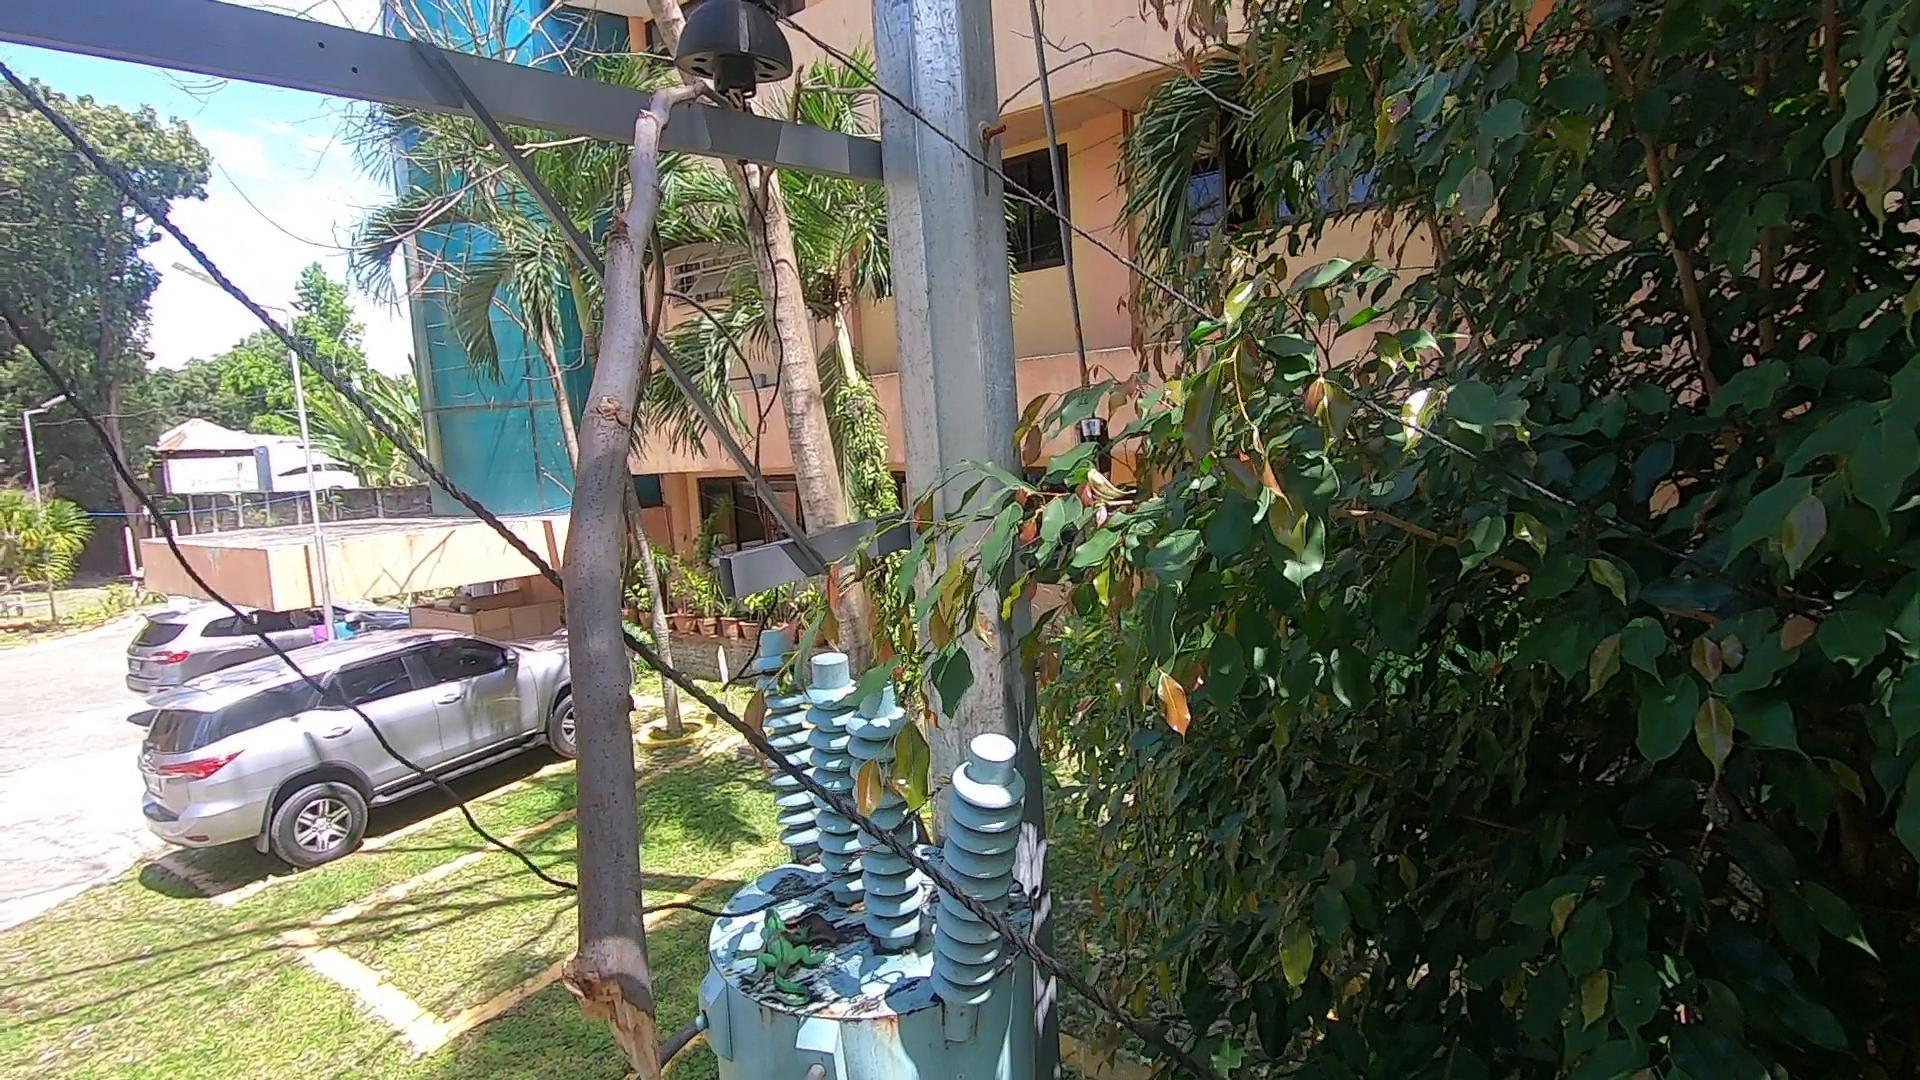branch with leaves: (735, 484, 1010, 820)
leaf: (778, 891, 884, 967), (775, 853, 825, 874)
tree branch: (568, 28, 742, 1068)
